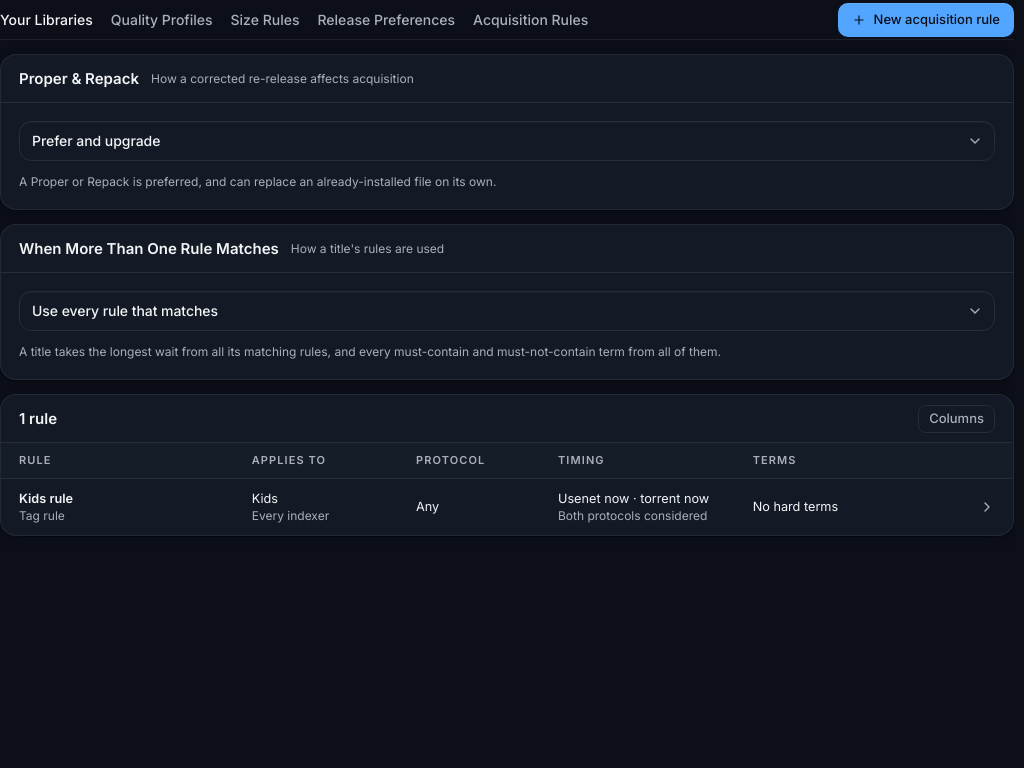
Test case: acquisition rule drawer › creates a new rule with POST, then keeps the drawer on the saved rule and says Saved just now
Click the button "New acquisition rule" at (926,20), box [838, 2, 1014, 36]
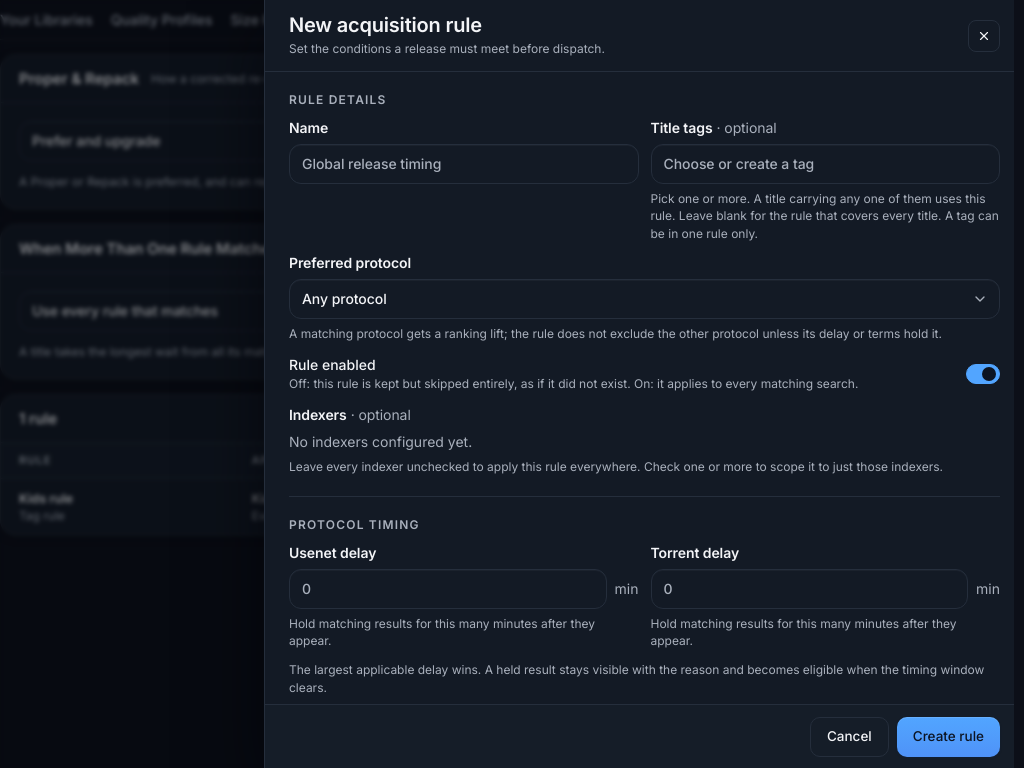
Expected: the dialog is shown
Type "Fresh rule" into the field with placeholder "Global release timing" at (464,164), box [289, 144, 638, 184]
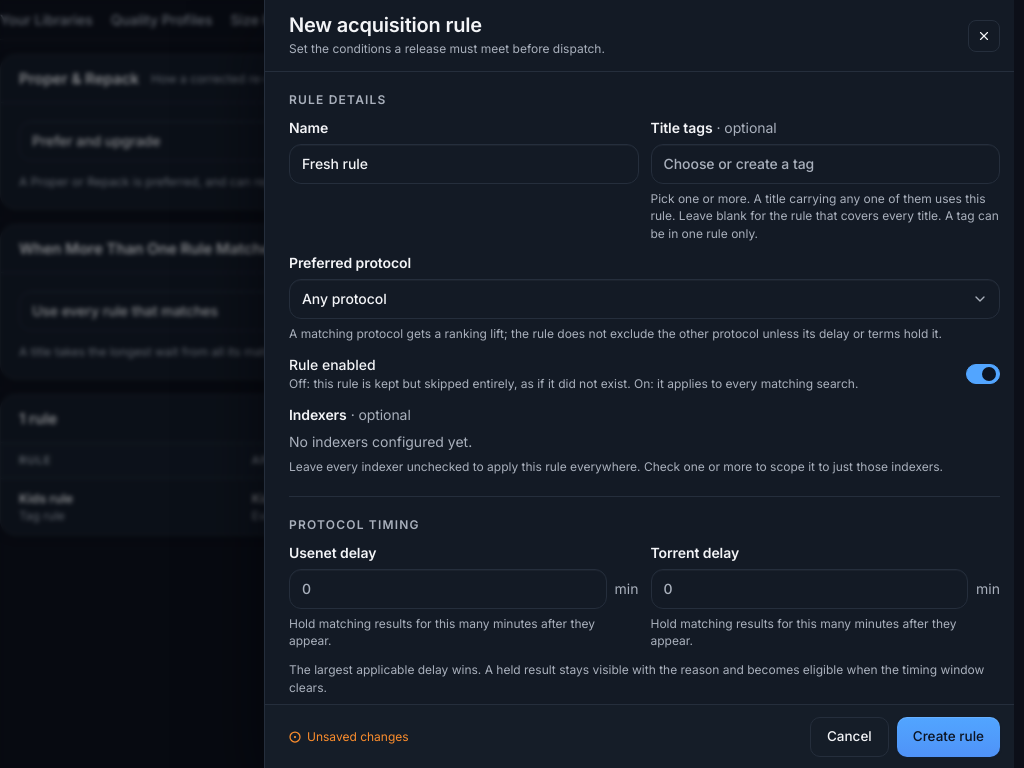
Click the button "Create rule" at (948,736), box [897, 716, 1000, 756]
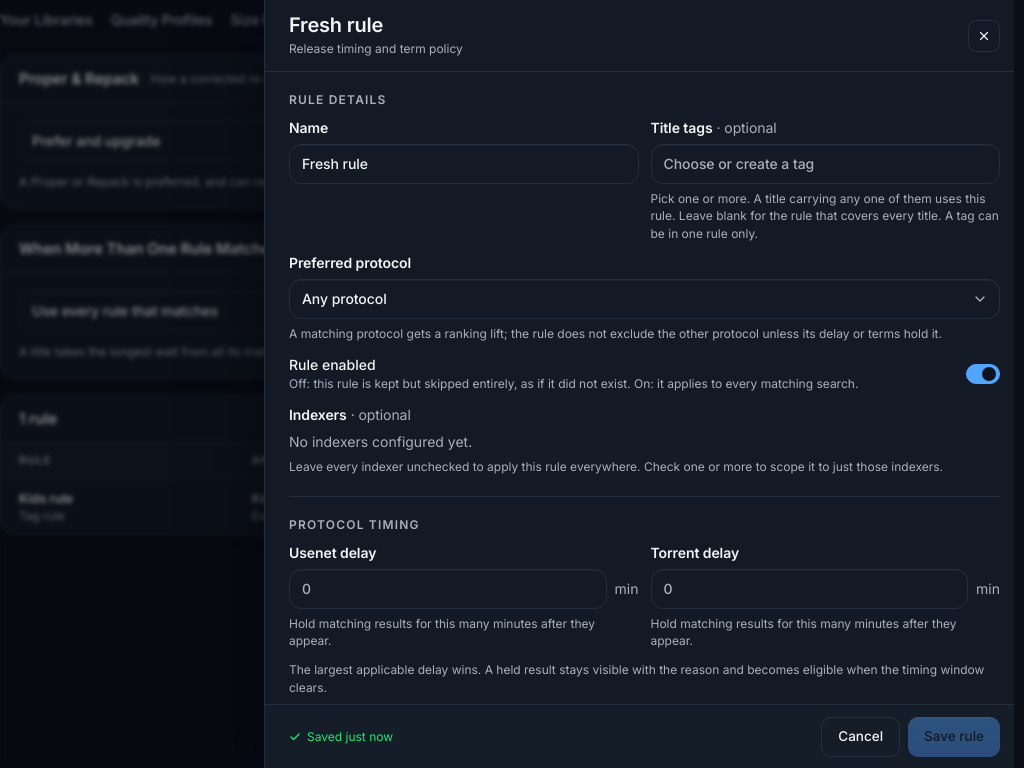
Expected: the dialog is shown
Expected: the heading "Fresh rule" is shown, [289, 13, 383, 37]
Expected: the text "Saved just now" is shown, [307, 728, 393, 746]
